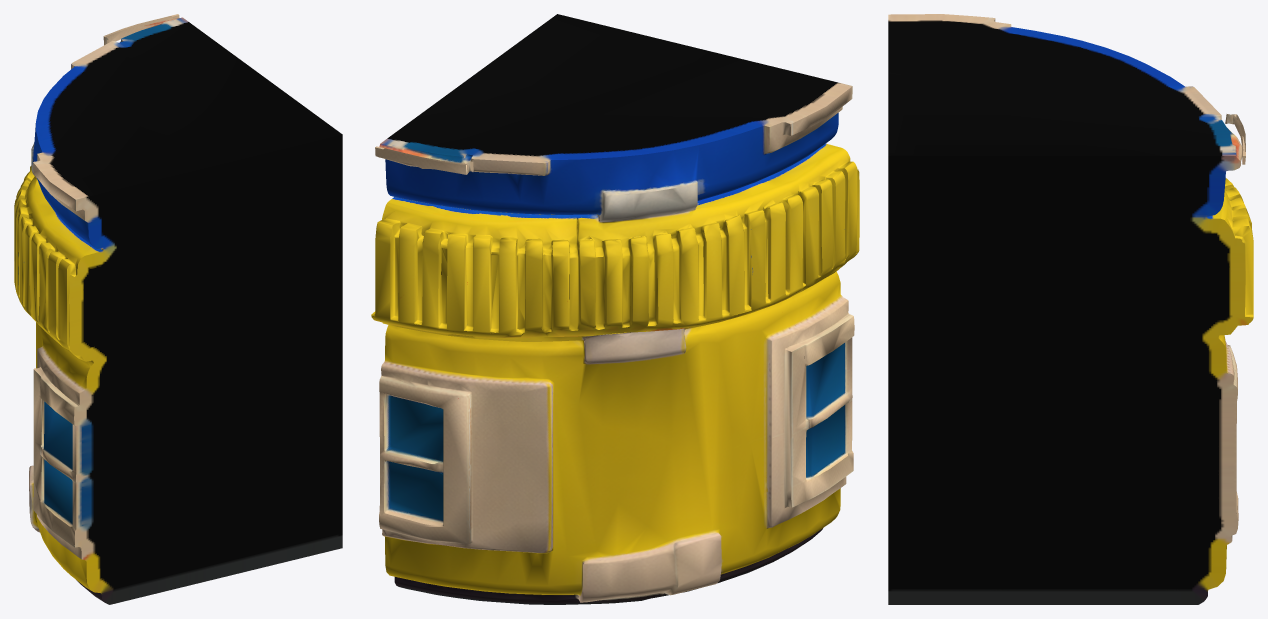
The model's file is 3-ground-floor-back-left.fbx.
3 renders of one model, left to right at view 1: azimuth 30°, elevation 25°; view 2: azimuth 150°, elevation 25°; view 3: azimuth 270°, elevation 25°, orthographic. The views are drawn at different scales.
Visible parts, largest first — view 1: ground-floor-back-left; view 2: ground-floor-back-left; view 3: ground-floor-back-left.
Part boxes in pixels (left/top/right/bottom): ground-floor-back-left: left=14, top=14, right=342, bottom=604; ground-floor-back-left: left=371, top=14, right=859, bottom=604; ground-floor-back-left: left=888, top=14, right=1253, bottom=604.
Bounding box in the file's own units: 4644 × 6699 × 4944.
Materials: 1 (1 with a texture image).
